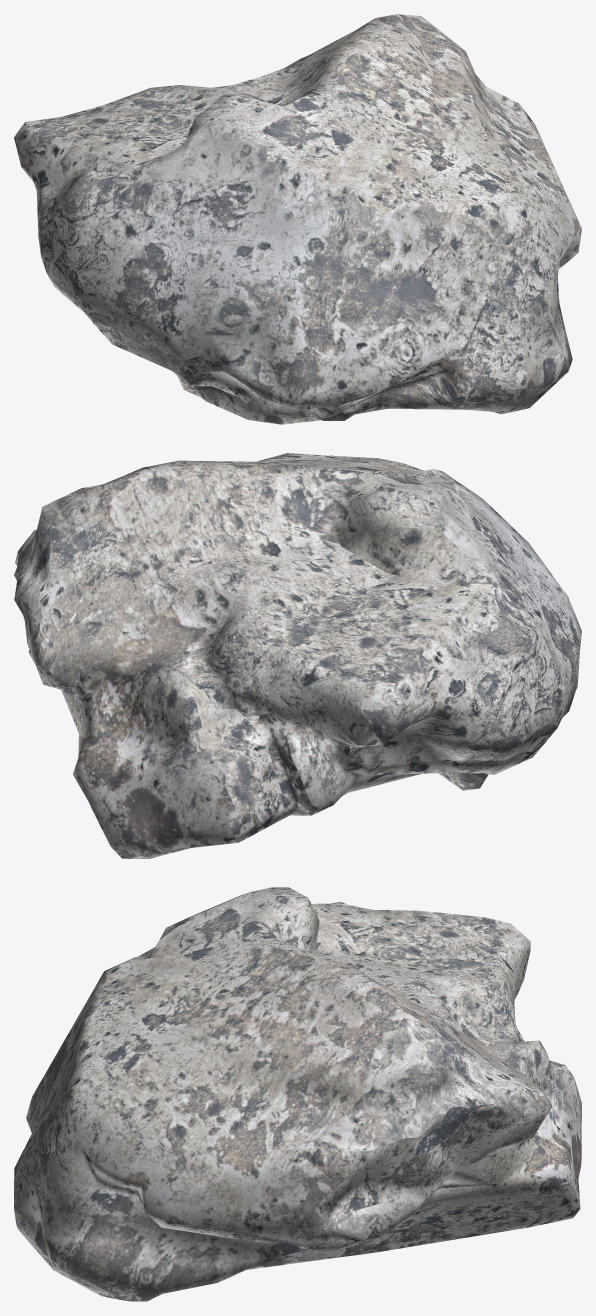
Rendered from SM_Large_Rock_C.fbx.
3 renders of one model, top to bottom at view 1: azimuth 30°, elevation 25°; view 2: azimuth 150°, elevation 25°; view 3: azimuth 270°, elevation 25°, orthographic. The views are drawn at different scales.
Parts seen in each view (by area): view 1: SM_Large_Rock_C_LOD0; view 2: SM_Large_Rock_C_LOD0; view 3: SM_Large_Rock_C_LOD0.
Boxes of the visible parts, x1,y1,x2,y2 form: SM_Large_Rock_C_LOD0: (14,14,581,424); SM_Large_Rock_C_LOD0: (14,453,581,858); SM_Large_Rock_C_LOD0: (14,887,581,1301).
Size of the model in its own units: 150 by 150 by 88.94.
Materials: 1 (1 with a texture image).
